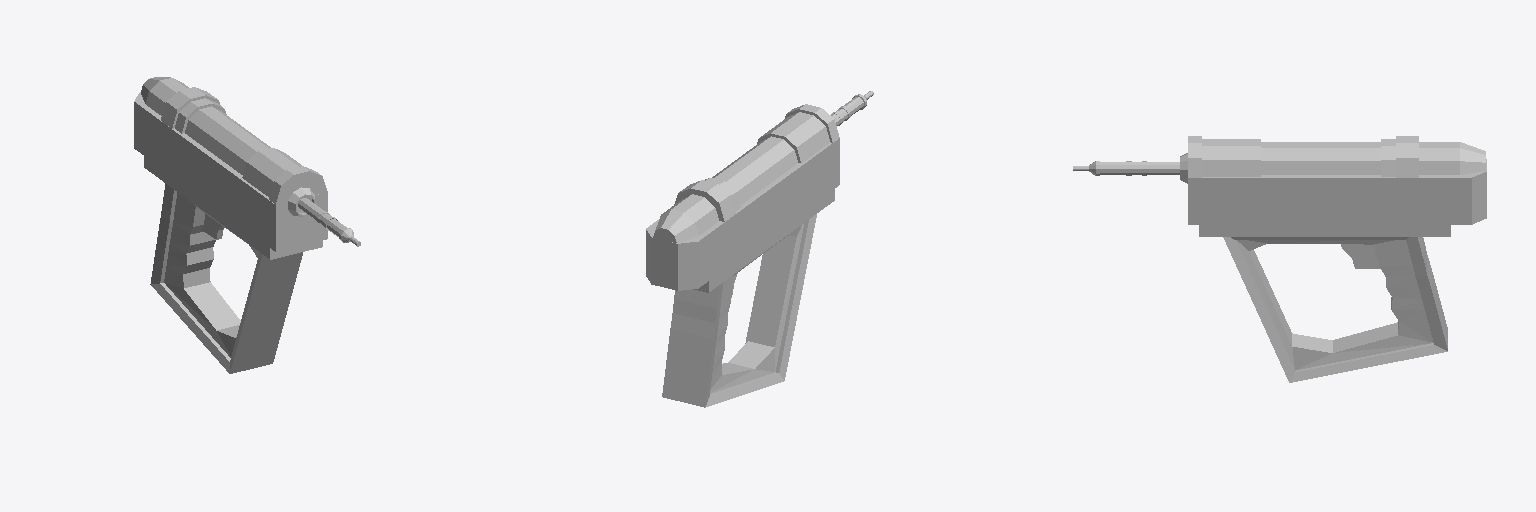
Rendered from Handgun_lower.obj.
The picture shows the model from 3 angles: view 1: azimuth 30°, elevation 25°; view 2: azimuth 150°, elevation 25°; view 3: azimuth 270°, elevation 25°; orthographic projection.
Parts seen in each view (by area): view 1: Handgun_lower; view 2: Handgun_lower; view 3: Handgun_lower.
Boxes of the visible parts, box(x1,y1,x2,y2) form: Handgun_lower: box(134, 77, 360, 373); Handgun_lower: box(646, 91, 873, 407); Handgun_lower: box(1073, 136, 1486, 382).
Bounding box in the file's own units: 0.2614 × 1.11 × 1.78.